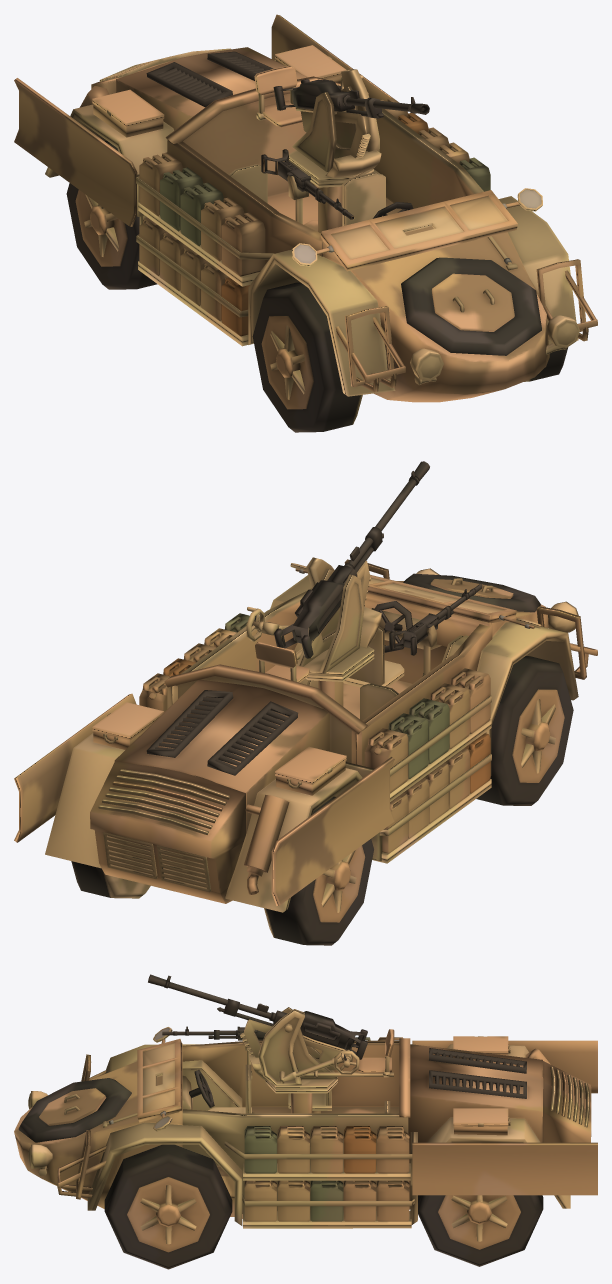
Rendered from camionetta.glb.
3 views of the same model, one above another, from view 1: azimuth 30°, elevation 25°; view 2: azimuth 150°, elevation 25°; view 3: azimuth 270°, elevation 25° (orthographic). The views are drawn at different scales.
Parts seen in each view (by area): view 1: hull, wheel_FR, windscreen, breda_20mm_seat, wheel_RR, breda_20mm_gun, breda_HMG, mg_seat; view 2: hull, wheel_FR, breda_20mm_seat, wheel_RR, breda_20mm_gun, windscreen, wheel_RL, breda_HMG, mg_seat, steering; view 3: hull, wheel_FL, wheel_RL, breda_20mm_seat, breda_20mm_gun, windscreen, breda_HMG, mg_seat, steering.
Part boxes in pixels (x1=…): hull: x1=14, y1=14, x2=597, y2=402; wheel_FR: x1=252, y1=282, x2=362, y2=432; windscreen: x1=292, y1=188, x2=542, y2=271; breda_20mm_seat: x1=254, y1=65, x2=381, y2=233; wheel_RR: x1=66, y1=140, x2=157, y2=289; breda_20mm_gun: x1=273, y1=79, x2=429, y2=158; breda_HMG: x1=261, y1=149, x2=354, y2=220; mg_seat: x1=229, y1=164, x2=267, y2=203; hull: x1=14, y1=559, x2=597, y2=912; wheel_FR: x1=476, y1=656, x2=573, y2=805; breda_20mm_seat: x1=255, y1=557, x2=381, y2=706; wheel_RR: x1=264, y1=796, x2=373, y2=945; breda_20mm_gun: x1=274, y1=461, x2=429, y2=658; windscreen: x1=290, y1=563, x2=541, y2=628; wheel_RL: x1=71, y1=861, x2=150, y2=898; breda_HMG: x1=389, y1=584, x2=482, y2=655; mg_seat: x1=360, y1=683, x2=398, y2=720; steering: x1=374, y1=601, x2=412, y2=652; hull: x1=14, y1=1036, x2=597, y2=1228; wheel_FL: x1=104, y1=1144, x2=232, y2=1269; wheel_RL: x1=418, y1=1195, x2=543, y2=1266; breda_20mm_seat: x1=248, y1=1007, x2=394, y2=1113; breda_20mm_gun: x1=148, y1=974, x2=367, y2=1066; windscreen: x1=137, y1=1027, x2=181, y2=1131; breda_HMG: x1=162, y1=1026, x2=265, y2=1040; mg_seat: x1=288, y1=1089, x2=331, y2=1113; steering: x1=189, y1=1070, x2=214, y2=1107.
Size of the model in its own units: 2.38 by 2.64 by 5.62.
Materials: 1 (1 with a texture image).
